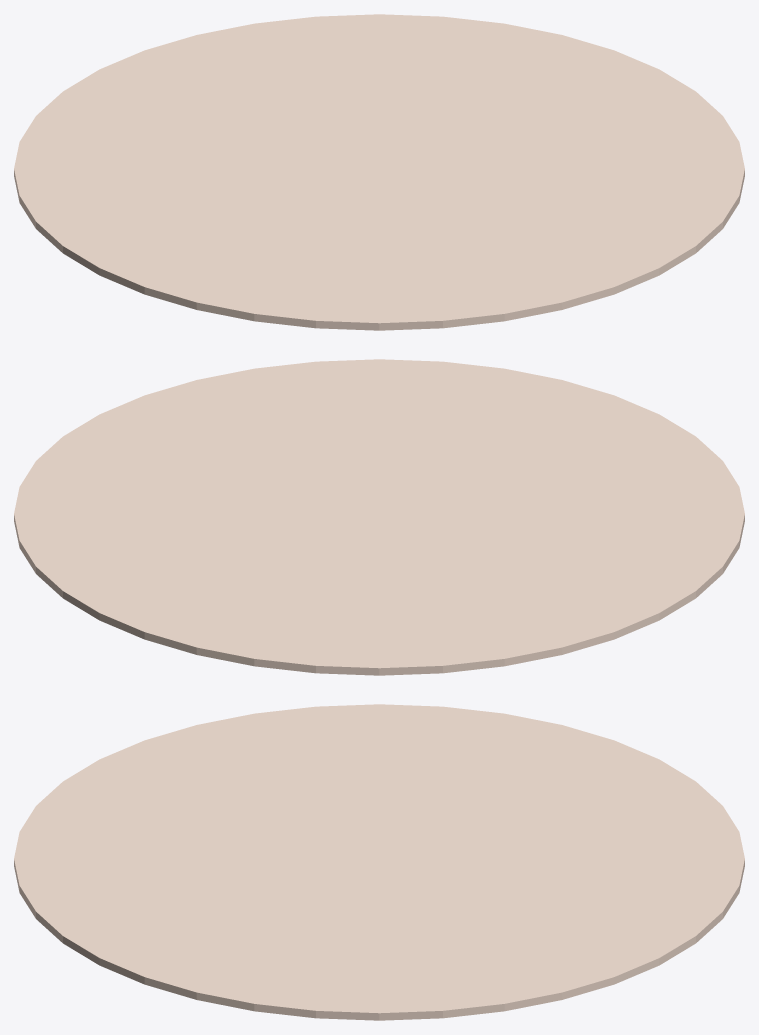
File: rug.fbx
3 views of the same model, one above another, from view 1: azimuth 30°, elevation 25°; view 2: azimuth 150°, elevation 25°; view 3: azimuth 270°, elevation 25° (orthographic).
Visible parts, largest first — view 1: Cylinder001; view 2: Cylinder001; view 3: Cylinder001.
Boxes of the visible parts, x1,y1,x2,y2 form: Cylinder001: [14, 14, 744, 330]; Cylinder001: [14, 359, 744, 675]; Cylinder001: [14, 704, 744, 1020].
Bounding box in the file's own units: 154 × 1.74 × 154.
